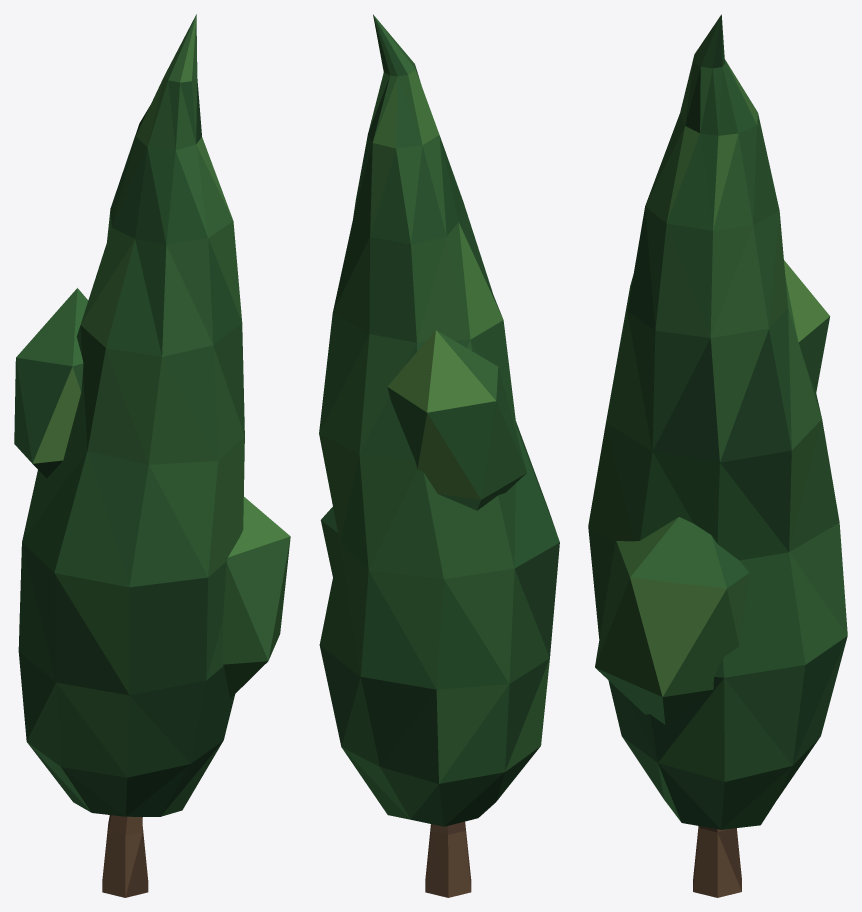
Rendered from city-tree-cypress.glb.
3 views of the same model, side by side, from view 1: azimuth 30°, elevation 25°; view 2: azimuth 150°, elevation 25°; view 3: azimuth 270°, elevation 25° (orthographic). The views are drawn at different scales.
Visible parts, largest first — view 1: CityTreeCypress; view 2: CityTreeCypress; view 3: CityTreeCypress.
Part boxes in pixels (x1,y1,x2,y2): CityTreeCypress: [14, 14, 290, 897]; CityTreeCypress: [319, 14, 559, 897]; CityTreeCypress: [588, 14, 847, 897].
Size of the model in its own units: 1.93 by 7.15 by 1.85.
